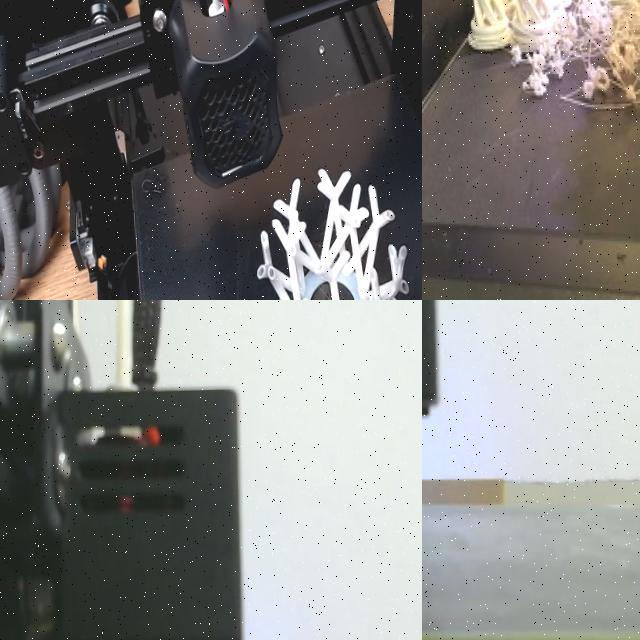spaghetti: (556, 0, 640, 115), (518, 75, 549, 107), (522, 42, 543, 70), (548, 52, 564, 81), (506, 44, 526, 66)
